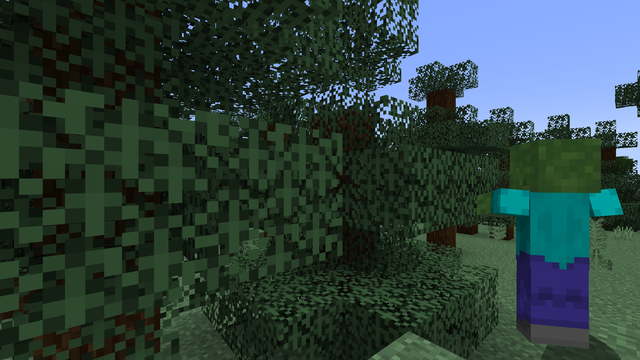zombies: (506, 141, 595, 358)
